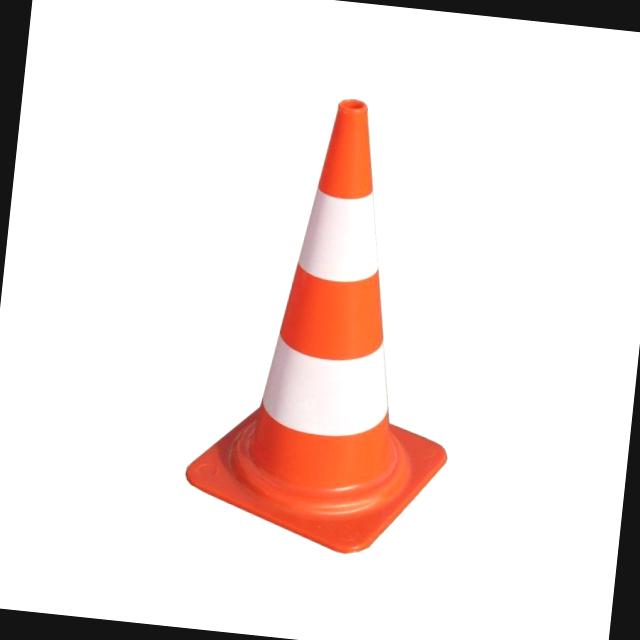cone: (173, 73, 487, 574)
